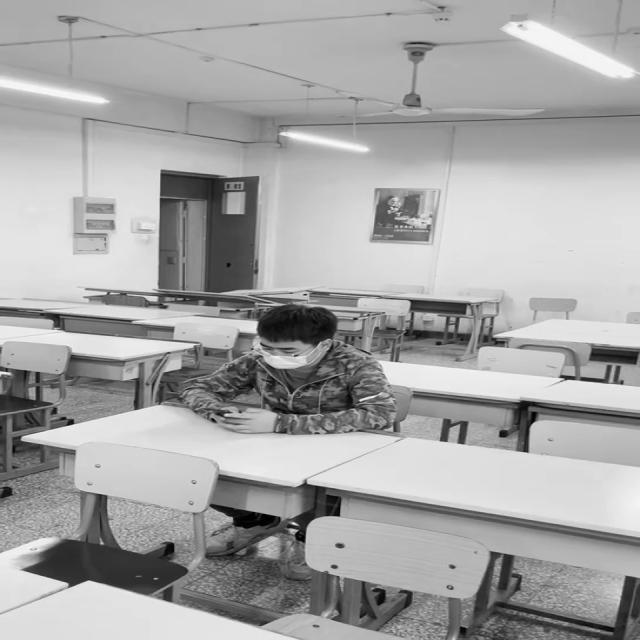phone: (178, 306, 397, 438)
